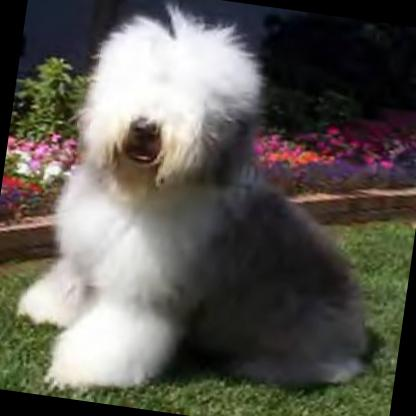Old_English_sheepdog: (7, 0, 410, 416)
